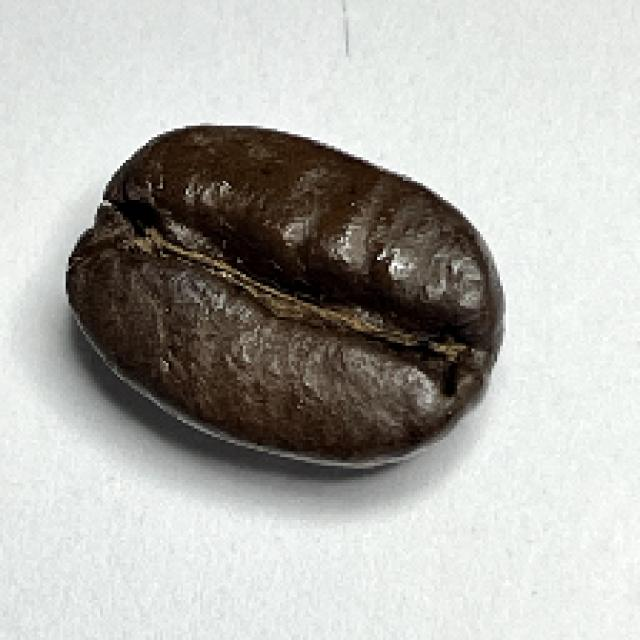bean: (63, 120, 509, 466)
